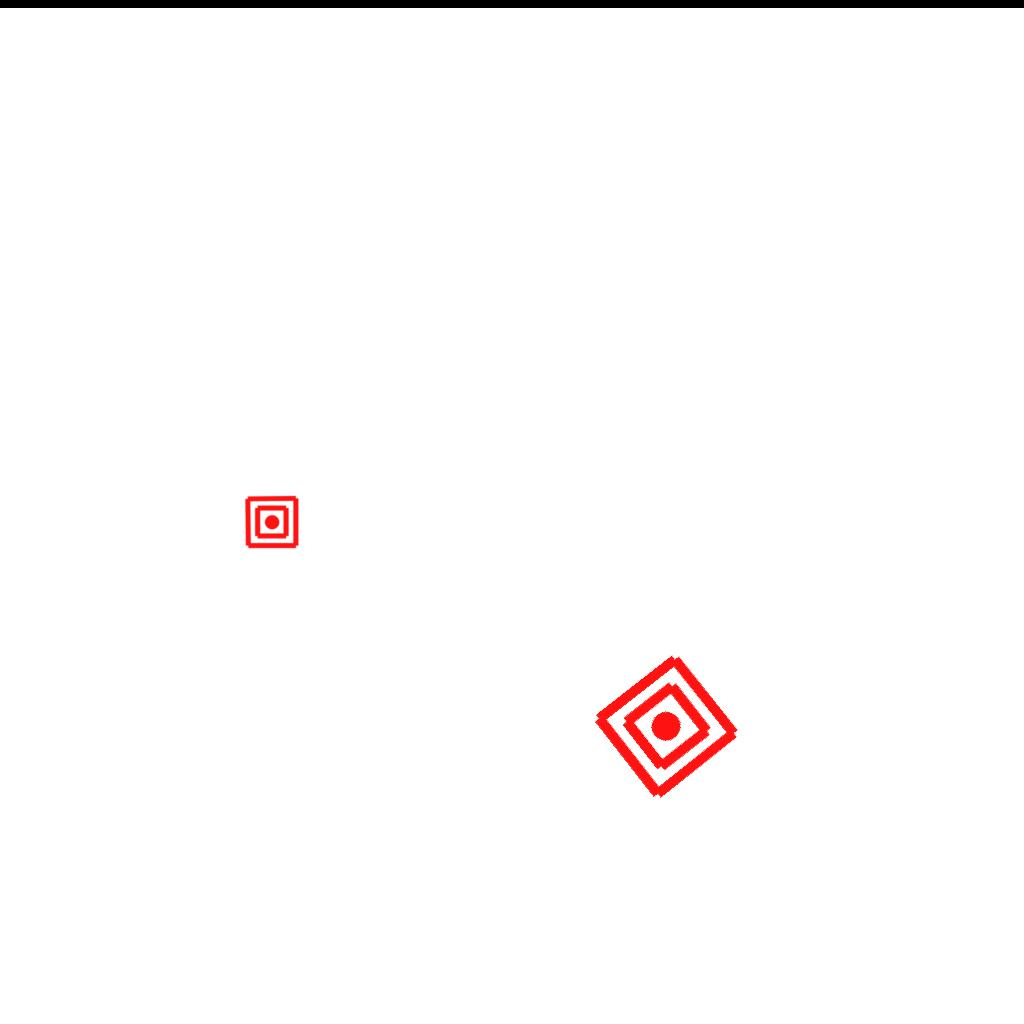NAM-Nichtautomatischer_Melder: (587, 647, 746, 806), (244, 494, 300, 550)
